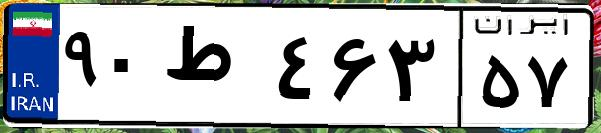0: (110, 28, 158, 98)
3: (385, 28, 445, 110)
4: (270, 28, 330, 110)
5: (475, 38, 525, 113)
6: (330, 28, 385, 110)
7: (525, 38, 570, 115)
9: (57, 26, 110, 100)
ط: (158, 20, 270, 120)
